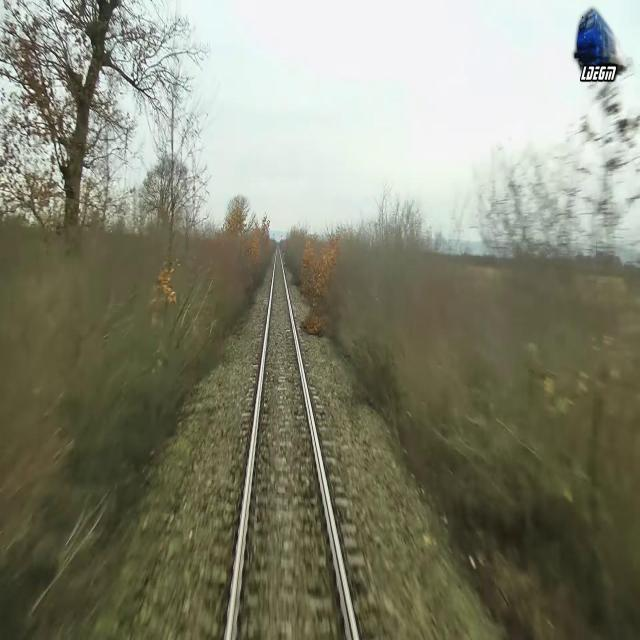rail-track: (231, 245, 354, 639)
